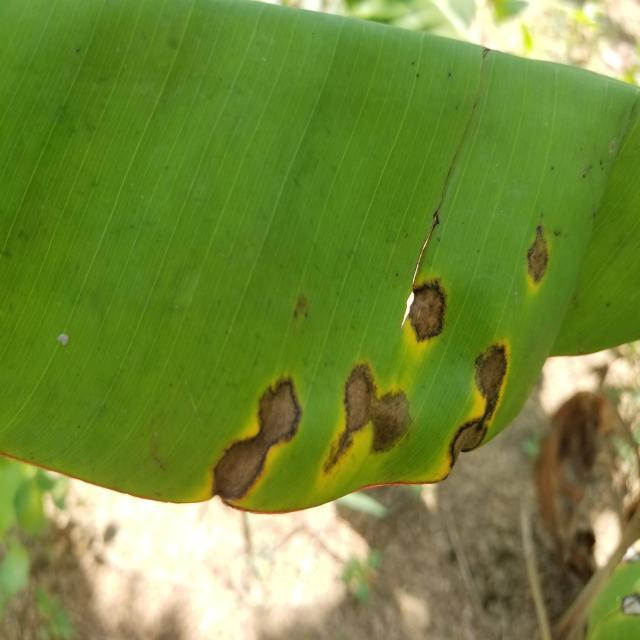Early_rust: (172, 161, 640, 554)
